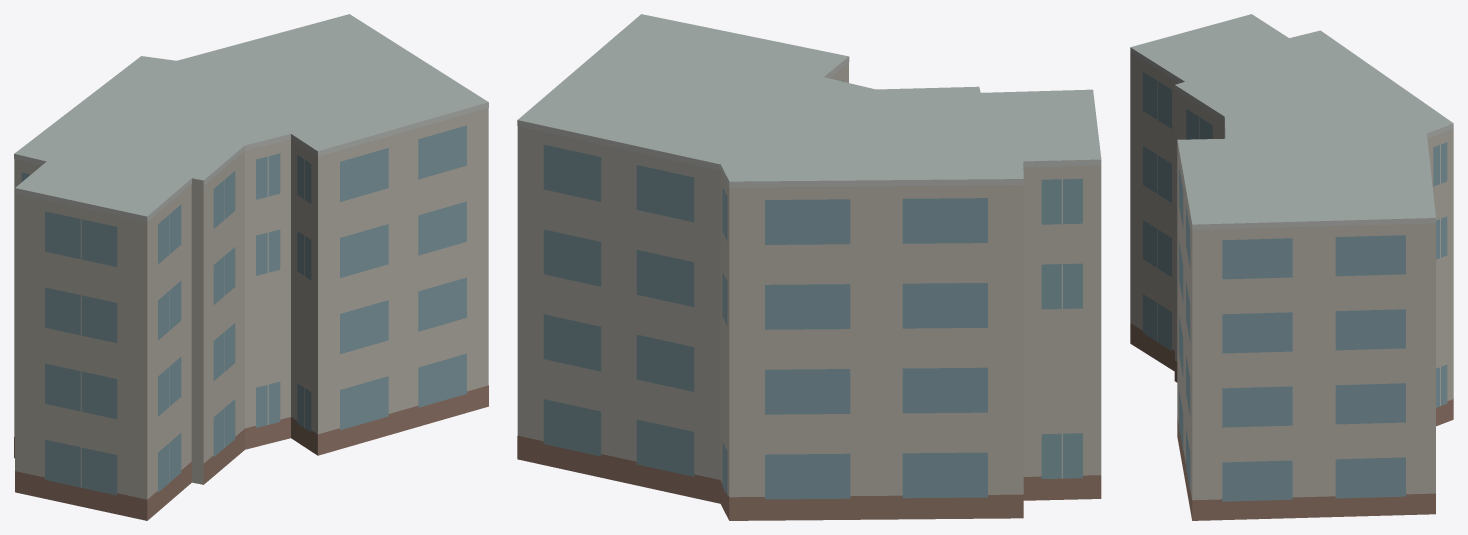
File: survey-upis-32750754.glb
3 renders of one model, left to right at view 1: azimuth 30°, elevation 25°; view 2: azimuth 150°, elevation 25°; view 3: azimuth 270°, elevation 25°, orthographic. The views are drawn at different scales.
Visible parts, largest first — view 1: survey-upis-32750754.tmp; view 2: survey-upis-32750754.tmp; view 3: survey-upis-32750754.tmp.
Boxes of the visible parts, box(x1,y1,x2,y2) form: survey-upis-32750754.tmp: box(14, 14, 488, 520); survey-upis-32750754.tmp: box(517, 14, 1101, 520); survey-upis-32750754.tmp: box(1130, 14, 1453, 520).
Bounding box in the file's own units: 20.89 × 13.7 × 13.56.
